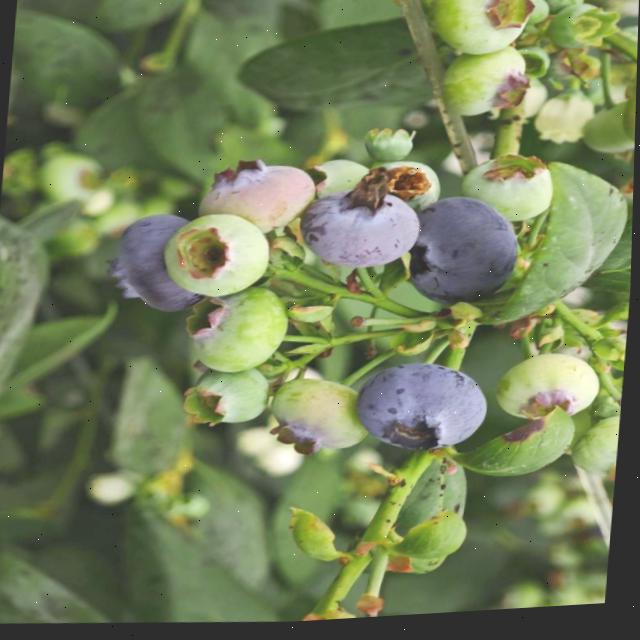RipeBlueBerry: (355, 360, 491, 460), (410, 197, 522, 314), (298, 189, 423, 280), (108, 211, 206, 318)
Semi-RipeBlueBerry: (195, 164, 318, 237)
UnripeBlueBerry: (161, 209, 275, 304), (186, 289, 292, 380), (496, 355, 605, 433), (268, 378, 368, 461), (429, 0, 537, 66), (441, 52, 537, 126), (462, 157, 555, 233), (183, 370, 272, 432)
